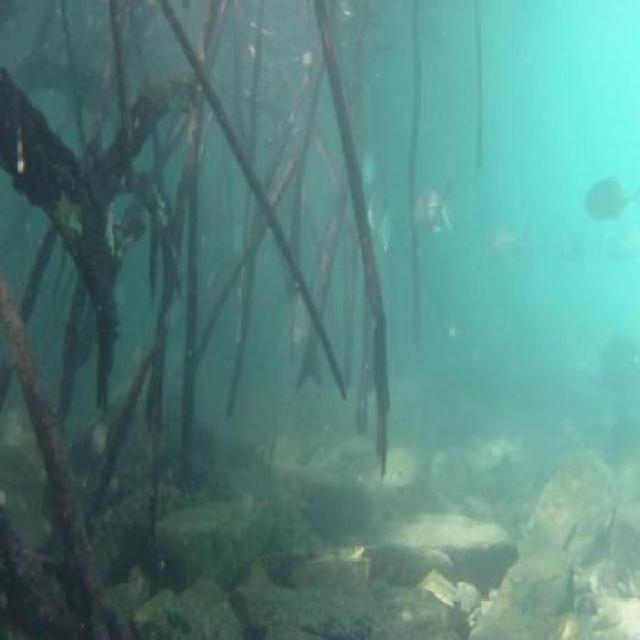Caranx_sexfasciatus_juvenile: (407, 174, 456, 243), (494, 218, 549, 268), (586, 171, 634, 226), (562, 224, 610, 270), (608, 226, 640, 274), (373, 205, 395, 258)
